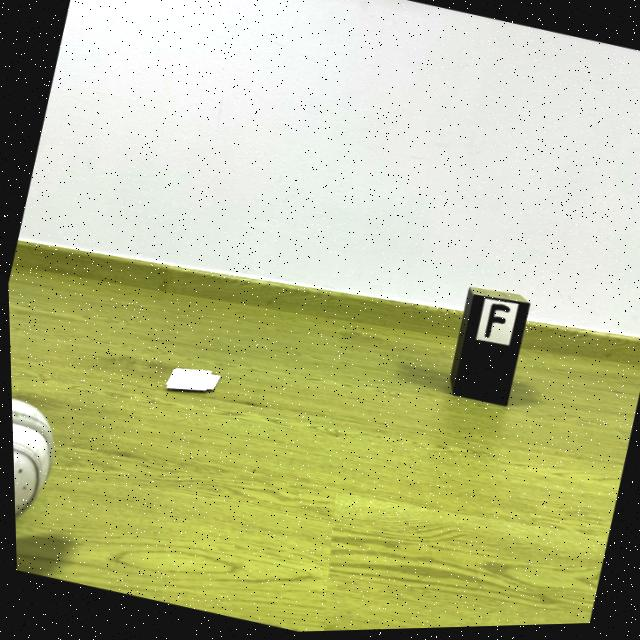F: (482, 306, 507, 341)
